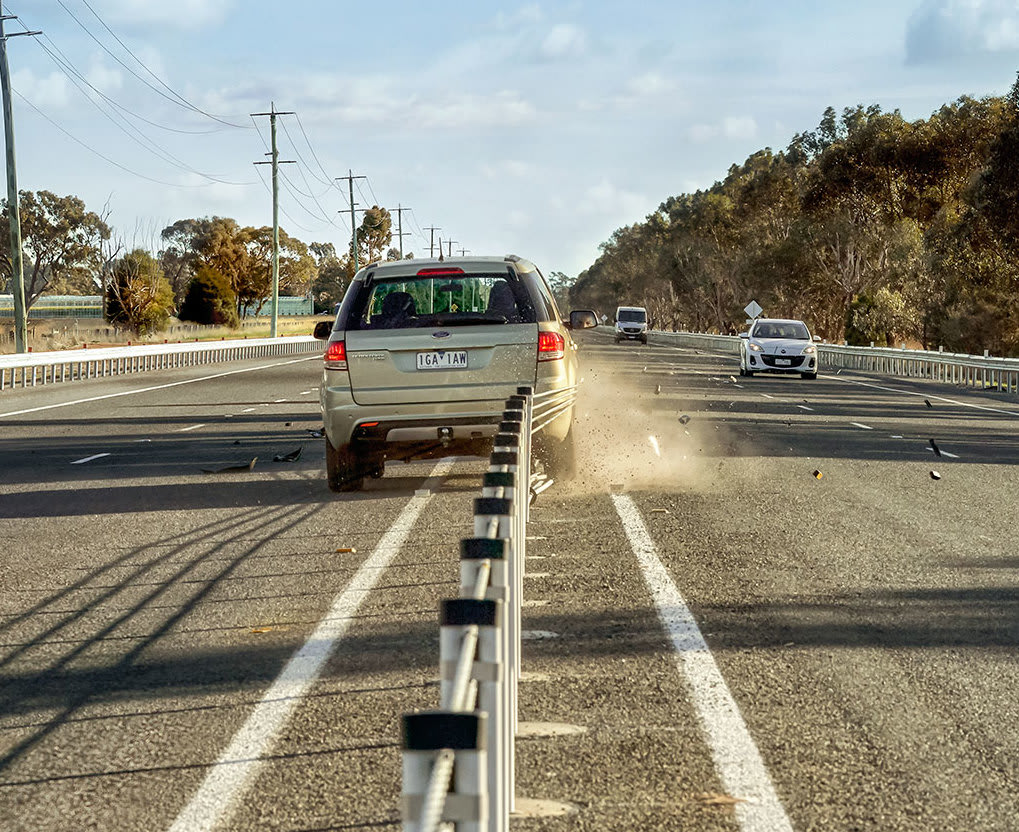Car: (305, 247, 597, 488), (730, 311, 830, 385), (604, 303, 656, 342)
Tree: (99, 246, 189, 339), (189, 205, 264, 313), (179, 267, 246, 324)
